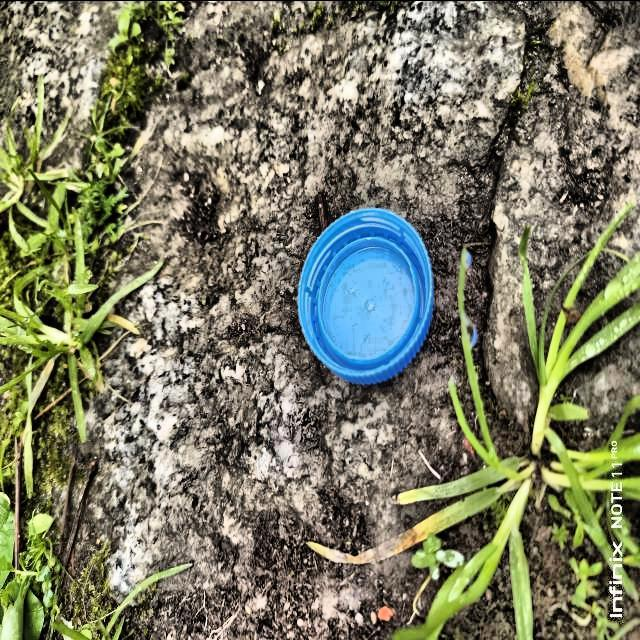plastic: (296, 208, 435, 388)
